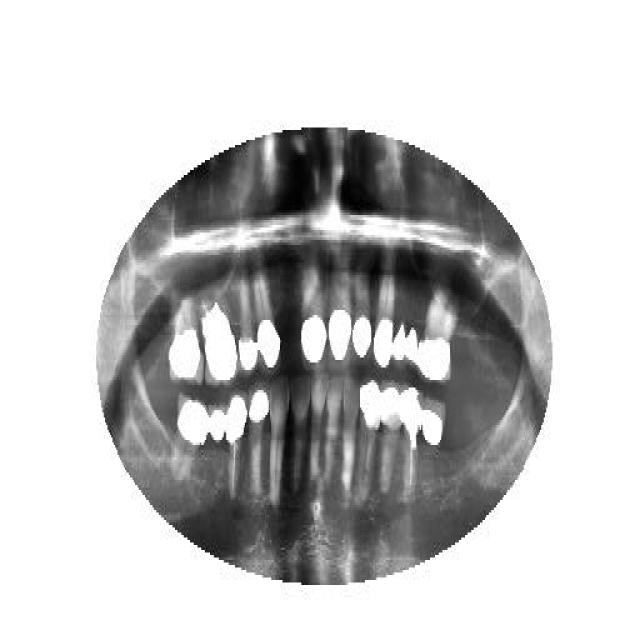Fillings: (200, 278, 236, 390), (418, 285, 458, 385), (169, 395, 211, 485), (356, 378, 384, 510), (168, 295, 204, 390), (255, 250, 283, 370), (299, 255, 325, 367), (372, 238, 393, 370), (328, 260, 353, 362), (352, 245, 372, 367), (236, 268, 258, 378), (249, 382, 269, 498), (381, 378, 401, 490), (423, 395, 445, 447), (404, 320, 420, 370), (209, 400, 225, 448), (393, 312, 405, 368)
Implant: (224, 392, 248, 502), (402, 382, 422, 502)
